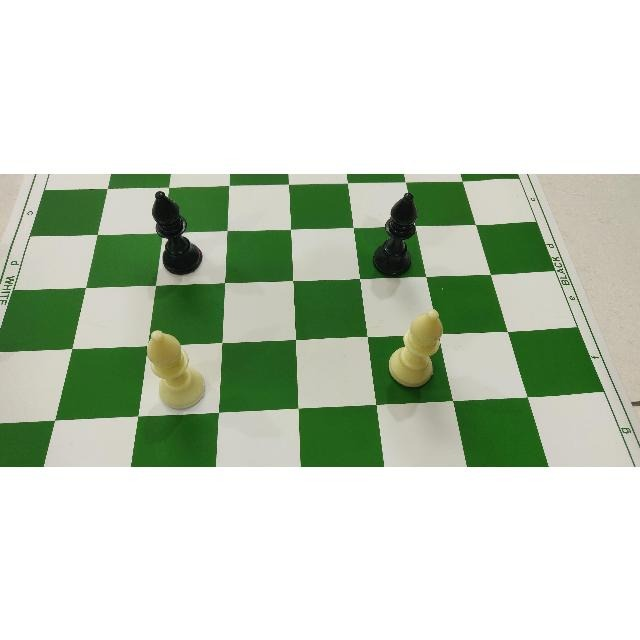black-bishop: (144, 183, 207, 277), (375, 186, 418, 279)
white-bishop: (382, 302, 443, 393), (139, 330, 205, 406)
